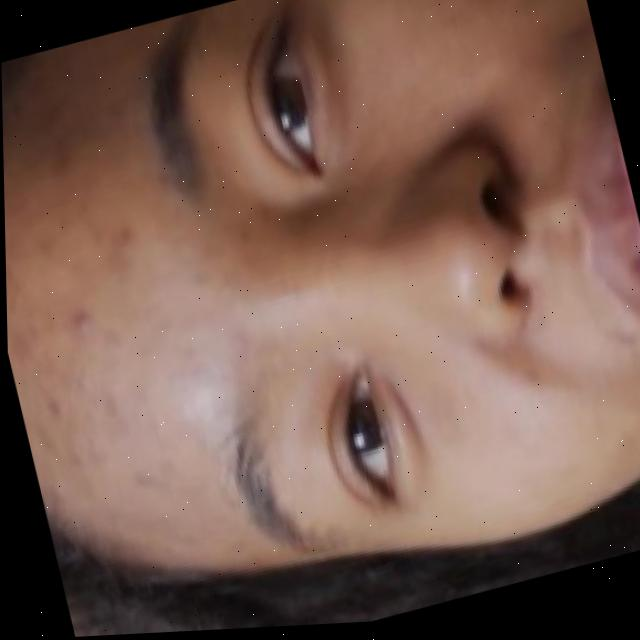Acne: (69, 304, 95, 337)
